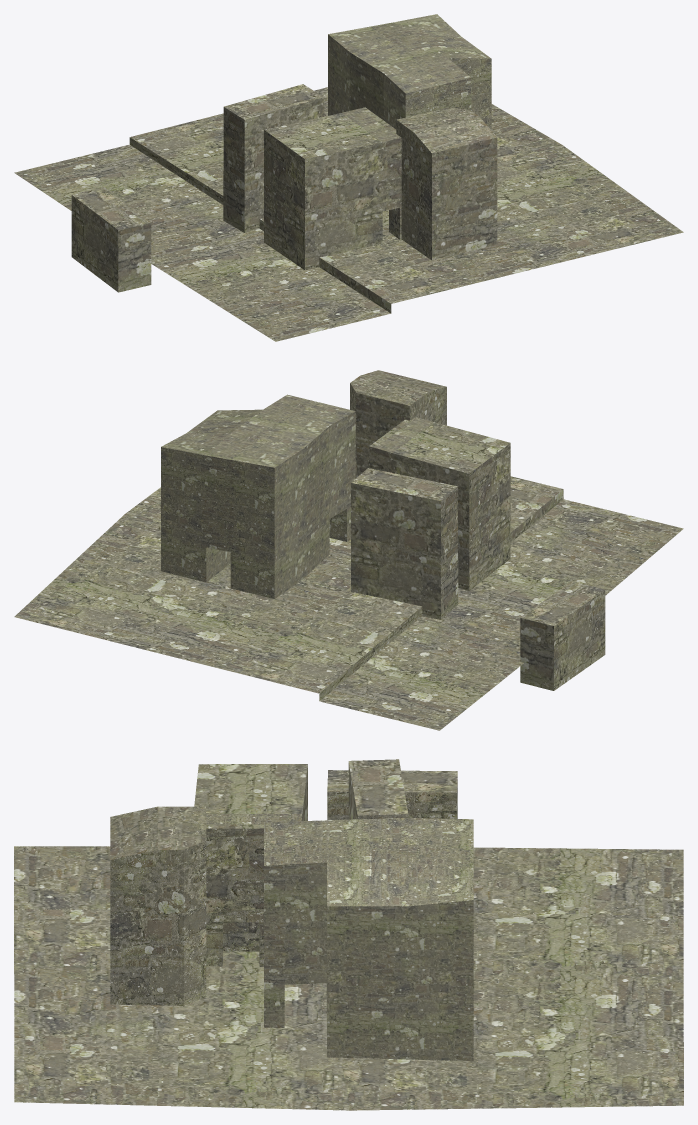
File: SM_Chateaux_04_09.fbx
The picture shows the model from 3 angles, top to bottom: view 1: azimuth 30°, elevation 25°; view 2: azimuth 150°, elevation 25°; view 3: azimuth 270°, elevation 25°; orthographic projection. The views are drawn at different scales.
Parts seen in each view (by area): view 1: SM_Chateaux_04_09, SM_Chateaux_04_09.001; view 2: SM_Chateaux_04_09, SM_Chateaux_04_09.001; view 3: SM_Chateaux_04_09.001, SM_Chateaux_04_09.
Boxes of the visible parts, <box> form: SM_Chateaux_04_09: <box>71,14,497,292</box>; SM_Chateaux_04_09.001: <box>14,87,683,341</box>; SM_Chateaux_04_09: <box>161,370,605,690</box>; SM_Chateaux_04_09.001: <box>14,476,683,730</box>; SM_Chateaux_04_09.001: <box>14,846,683,1110</box>; SM_Chateaux_04_09: <box>110,759,473,1060</box>.
Size of the model in its own units: 5625 by 1838 by 5344.
